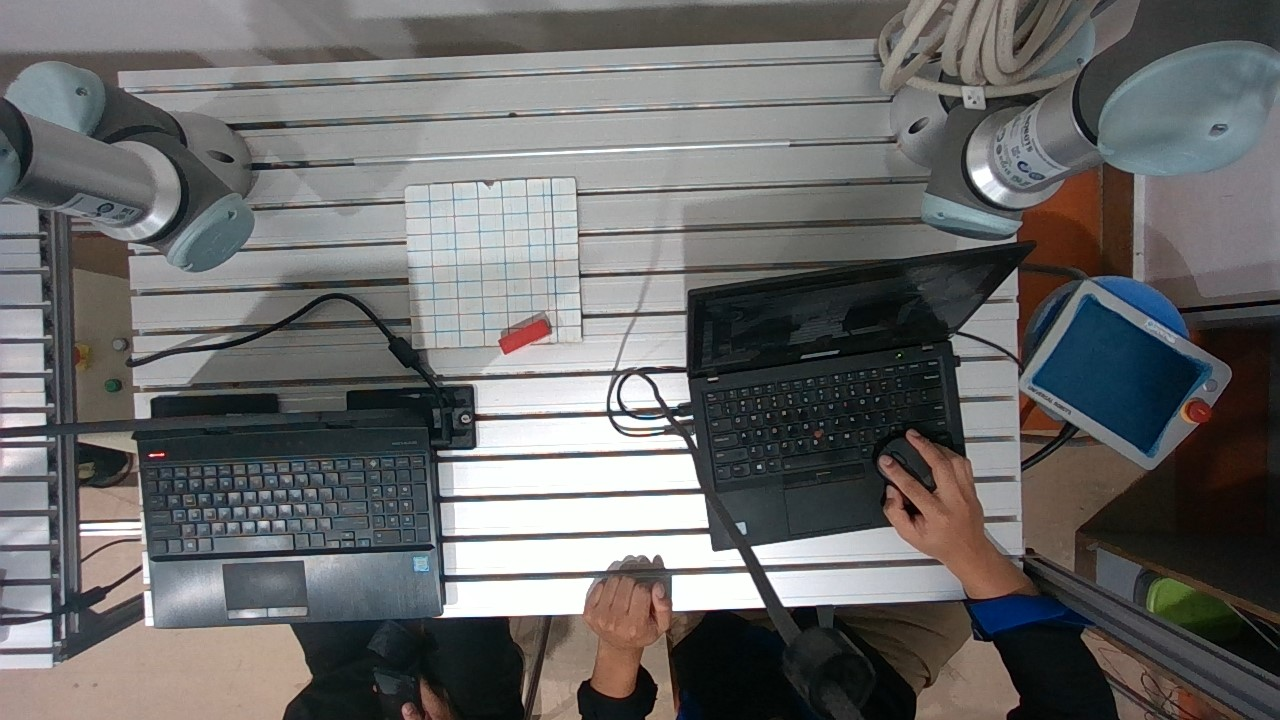box: (492, 307, 559, 357)
